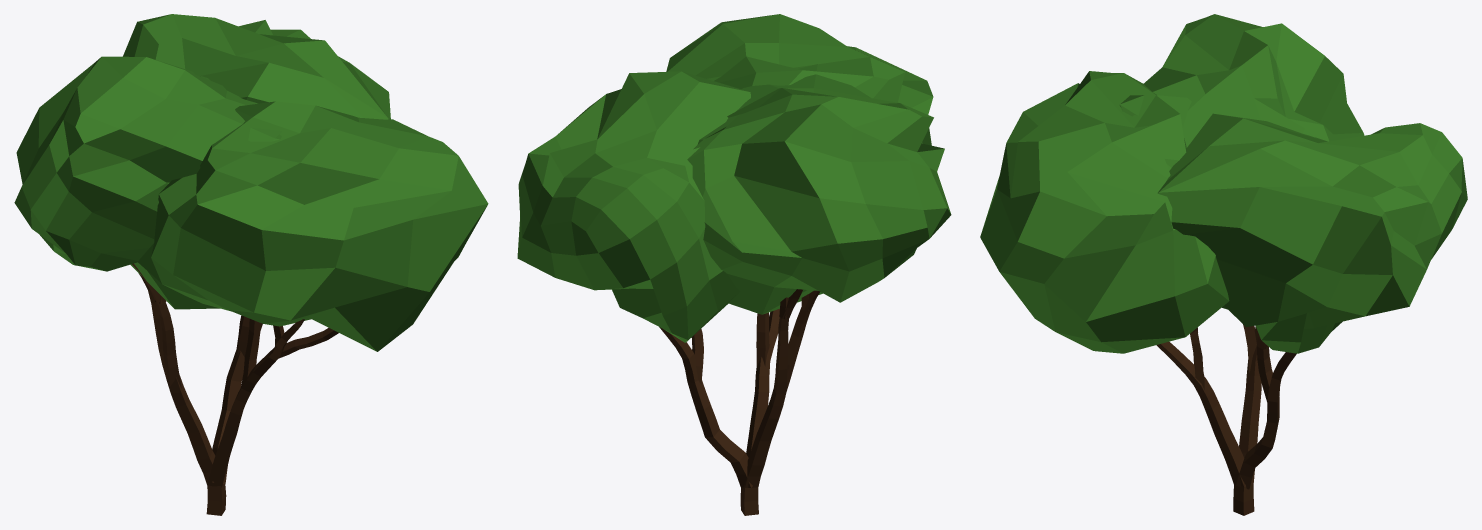
Rendered from Tree_009.fbx.
3 views of the same model, side by side, from view 1: azimuth 30°, elevation 25°; view 2: azimuth 150°, elevation 25°; view 3: azimuth 270°, elevation 25° (orthographic). The views are drawn at different scales.
Parts seen in each view (by area): view 1: tree_009; view 2: tree_009; view 3: tree_009.
Boxes of the visible parts, x1,y1,x2,y2 form: tree_009: [14, 14, 488, 515]; tree_009: [517, 14, 951, 515]; tree_009: [980, 14, 1467, 515].
Bounding box in the file's own units: 441 × 533 × 531.
